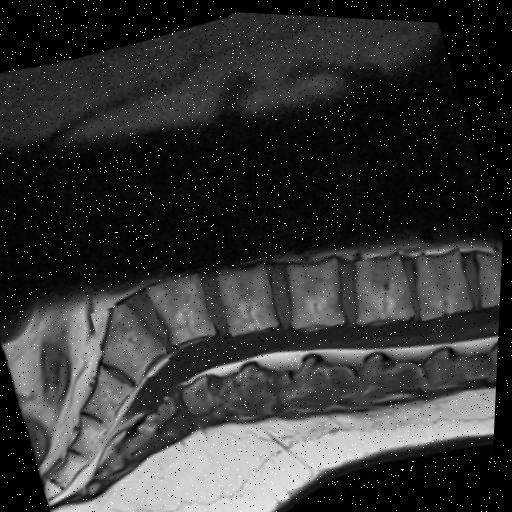L1: (417, 245, 474, 317)
L2: (358, 251, 416, 322)
L3: (288, 257, 345, 327)
L4: (218, 263, 281, 335)
L5: (148, 271, 218, 343)
S1: (105, 303, 170, 381)
